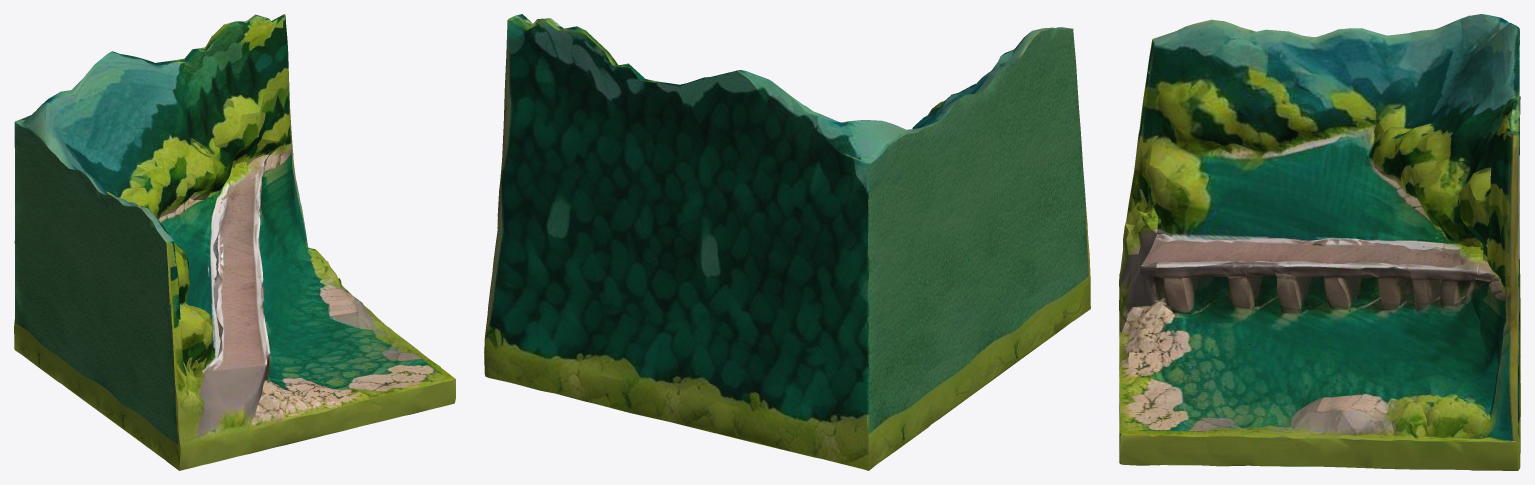
Rendered from sada-chinkabashi.glb.
3 views of the same model, side by side, from view 1: azimuth 30°, elevation 25°; view 2: azimuth 150°, elevation 25°; view 3: azimuth 270°, elevation 25° (orthographic). The views are drawn at different scales.
Parts seen in each view (by area): view 1: logan-textured.obj; view 2: logan-textured.obj; view 3: logan-textured.obj.
Part boxes in pixels (bbox=[...]): logan-textured.obj: bbox=[14, 14, 455, 470]; logan-textured.obj: bbox=[484, 14, 1090, 470]; logan-textured.obj: bbox=[1119, 14, 1520, 470].
Bounding box in the file's own units: 1 × 0.9193 × 0.9983.
Materials: 1 (1 with a texture image).
